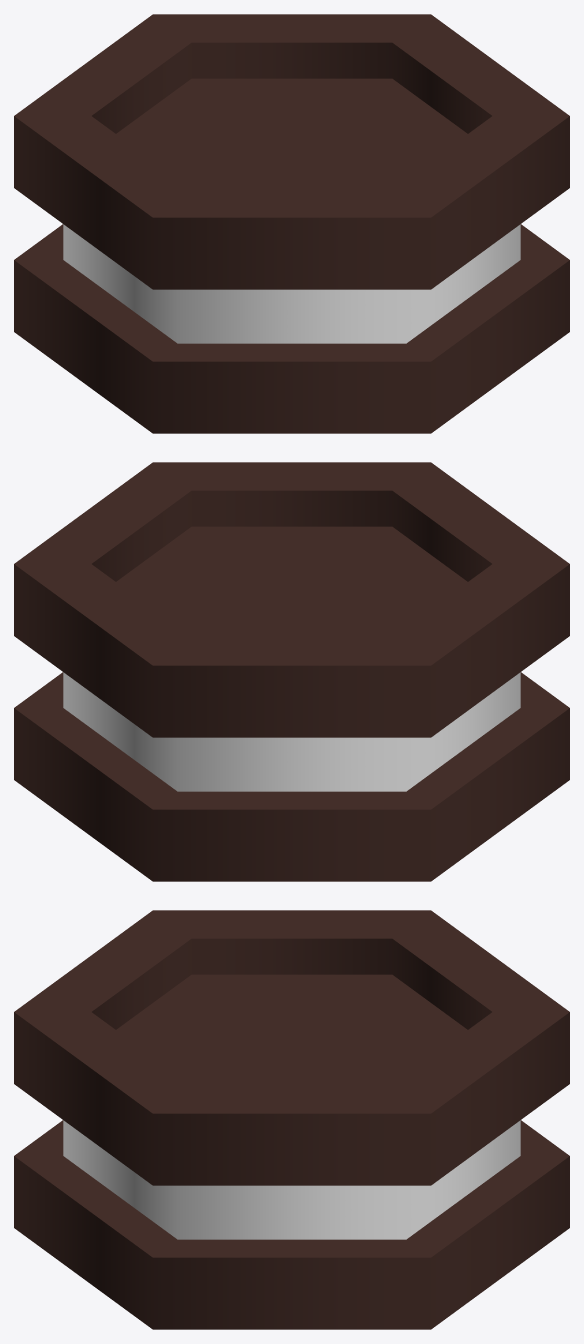
The model's file is cookieChocolate.obj.
3 views of the same model, one above another, from view 1: azimuth 30°, elevation 25°; view 2: azimuth 150°, elevation 25°; view 3: azimuth 270°, elevation 25° (orthographic).
Parts seen in each view (by area): view 1: cookieChocolate; view 2: cookieChocolate; view 3: cookieChocolate.
Part boxes in pixels (x1,y1,x2,y2): cookieChocolate: [14, 14, 569, 433]; cookieChocolate: [14, 462, 569, 881]; cookieChocolate: [14, 910, 569, 1329].
Size of the model in its own units: 0.1212 by 0.06 by 0.14.
